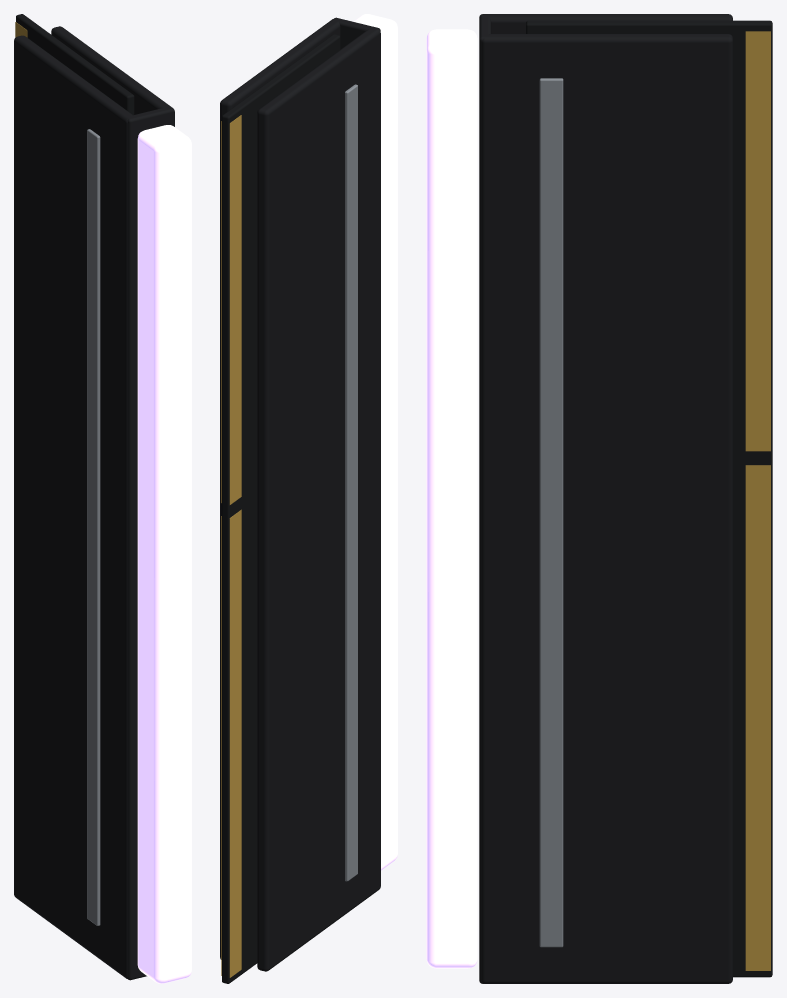
Rendered from 9b2e2bff-7e95-4f82-be81-c4b089f66fbf.glb.
3 views of the same model, side by side, from view 1: azimuth 30°, elevation 25°; view 2: azimuth 150°, elevation 25°; view 3: azimuth 270°, elevation 25° (orthographic). The views are drawn at different scales.
Visible parts, largest first — view 1: RAM_Heatspreader_L, RAM_RGB_Diffuser, RAM_Heatspreader_L_Trim, RAM_RGB_Housing, RAM_PCB, RAM_Heatspreader_R; view 2: RAM_Heatspreader_L, RAM_PCB, RAM_RGB_Diffuser, RAM_Contacts, RAM_Heatspreader_L_Trim, RAM_Heatspreader_R, RAM_RGB_Housing; view 3: RAM_Heatspreader_R, RAM_RGB_Diffuser, RAM_Contacts, RAM_Heatspreader_R_Trim, RAM_PCB, RAM_RGB_Housing, RAM_Heatspreader_L.
Part boxes in pixels (x1,y1,x2,y2): RAM_Heatspreader_L: (14, 35, 132, 978); RAM_RGB_Diffuser: (137, 125, 191, 983); RAM_Heatspreader_L_Trim: (87, 129, 100, 925); RAM_RGB_Housing: (127, 106, 174, 980); RAM_PCB: (16, 14, 134, 114); RAM_Heatspreader_R: (51, 26, 174, 126); RAM_Heatspreader_L: (257, 28, 380, 971); RAM_PCB: (222, 34, 340, 983); RAM_RGB_Diffuser: (353, 14, 397, 870); RAM_Contacts: (221, 115, 241, 977); RAM_Heatspreader_L_Trim: (345, 84, 357, 881); RAM_Heatspreader_R: (220, 19, 340, 959); RAM_RGB_Housing: (333, 17, 380, 49); RAM_Heatspreader_R: (481, 34, 732, 983); RAM_RGB_Diffuser: (426, 29, 477, 968); RAM_Contacts: (745, 31, 770, 970); RAM_Heatspreader_R_Trim: (539, 78, 563, 947); RAM_PCB: (526, 20, 772, 977); RAM_RGB_Housing: (479, 14, 491, 983); RAM_Heatspreader_L: (485, 14, 732, 33).
Bounding box in the file's own units: 0.0089 × 0.1334 × 0.0439.
